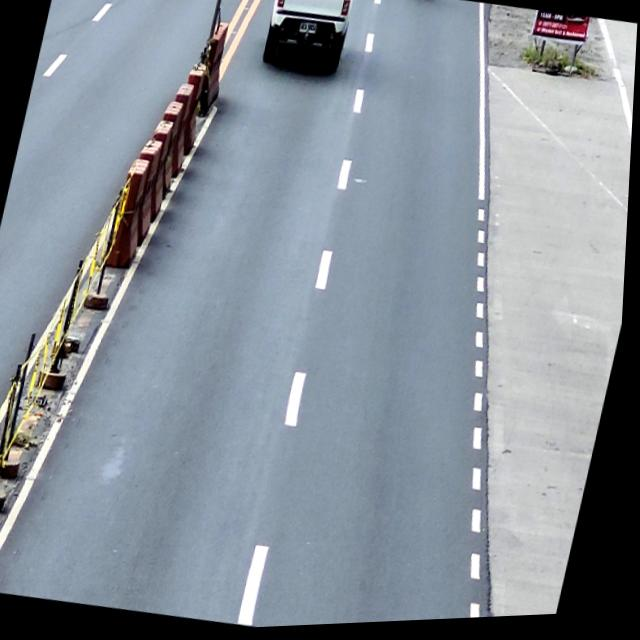Car: (259, 0, 356, 78)
License-Plate: (298, 21, 318, 38)
